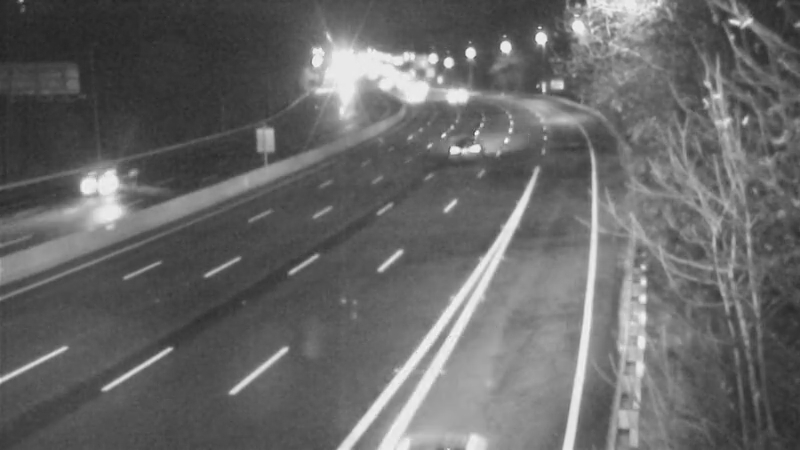vehicle: (57, 142, 137, 222), (429, 70, 479, 120), (438, 122, 488, 172)
